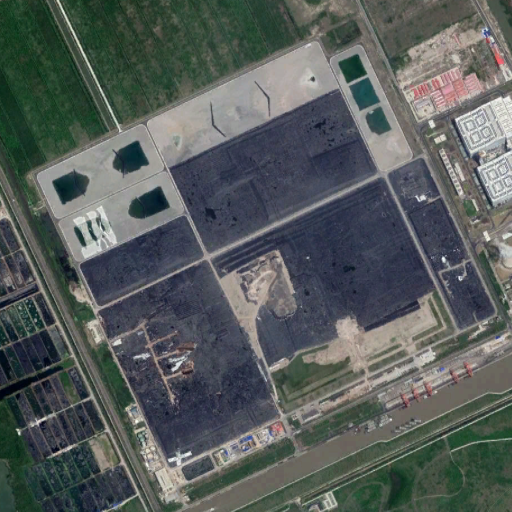lf: (33, 42, 498, 467)
